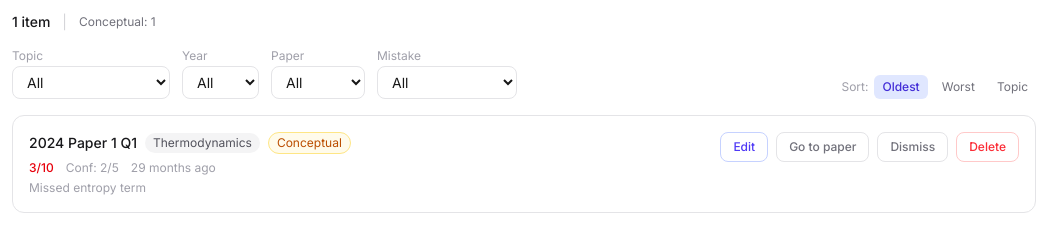
Test: ReviewClient › shows no-match state when filters empty the list
Select "Kinetics" in the dropdown labelled "Topic": [91, 82] box [12, 66, 170, 99]
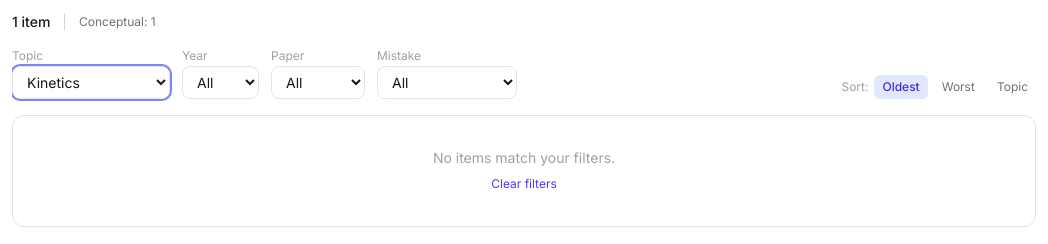
Check: the text "No items match your filters." is shown, box [433, 149, 615, 166]
